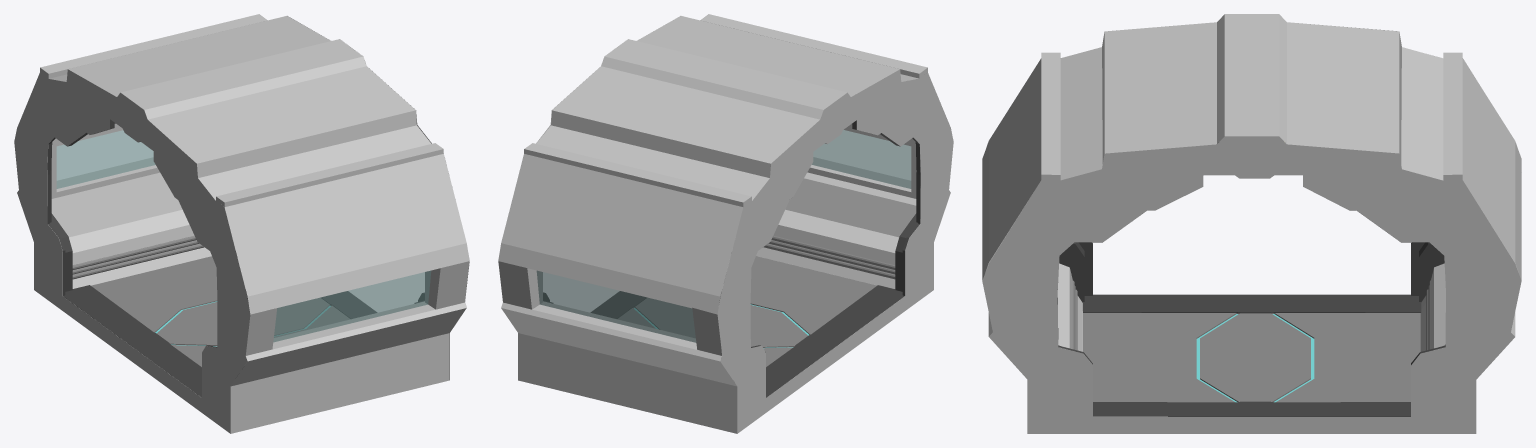
File: Hallway_A_Window.fbx
3 renders of one model, left to right at view 1: azimuth 30°, elevation 25°; view 2: azimuth 150°, elevation 25°; view 3: azimuth 270°, elevation 25°, orthographic. The views are drawn at different scales.
Parts seen in each view (by area): view 1: Hallway_A_Window, pPlane30, pPlane36; view 2: Hallway_A_Window, pPlane30, pPlane36; view 3: Hallway_A_Window, pPlane34.
Part boxes in pixels (bbox=[...]): Hallway_A_Window: bbox=[16, 14, 469, 433]; pPlane30: bbox=[14, 69, 250, 433]; pPlane36: bbox=[22, 94, 214, 318]; Hallway_A_Window: bbox=[498, 14, 951, 433]; pPlane30: bbox=[717, 69, 953, 433]; pPlane36: bbox=[723, 88, 952, 415]; Hallway_A_Window: bbox=[982, 14, 1521, 416]; pPlane34: bbox=[982, 136, 1521, 433].
Bounding box in the file's own units: 2.99 × 5.58 × 3.4.
